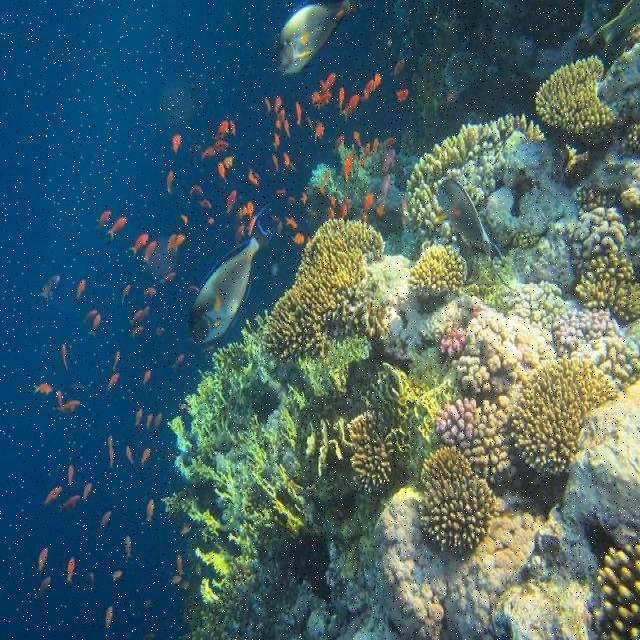fish: (188, 199, 288, 344), (437, 176, 514, 292), (276, 0, 372, 78), (587, 1, 639, 58), (341, 94, 360, 123), (107, 216, 128, 239), (360, 193, 374, 222), (129, 235, 148, 256), (342, 153, 357, 179), (43, 484, 61, 505), (321, 71, 336, 92), (107, 372, 120, 394), (144, 241, 157, 262), (225, 191, 237, 213), (89, 315, 101, 337), (60, 343, 69, 371), (121, 284, 131, 309), (138, 448, 151, 467), (129, 310, 144, 326), (390, 59, 404, 76), (172, 234, 186, 251), (364, 79, 374, 101), (59, 400, 79, 411), (38, 546, 48, 568), (108, 435, 115, 466), (66, 557, 75, 581), (145, 499, 154, 523), (317, 93, 331, 108), (97, 210, 112, 224), (284, 153, 295, 172), (248, 169, 259, 188), (166, 234, 177, 253), (125, 535, 134, 558), (381, 174, 390, 196), (171, 135, 181, 154), (314, 120, 324, 139), (275, 107, 284, 128), (214, 139, 228, 152), (295, 101, 302, 127), (218, 162, 227, 181), (218, 120, 228, 137), (76, 280, 86, 297), (81, 483, 91, 500), (396, 89, 409, 102), (202, 147, 216, 159), (337, 86, 344, 110), (166, 171, 174, 192), (35, 384, 52, 393), (113, 350, 121, 369), (376, 200, 385, 215), (141, 370, 150, 385), (385, 137, 397, 148), (198, 199, 211, 209), (274, 98, 282, 114), (341, 202, 349, 218), (67, 464, 73, 485), (292, 234, 304, 244), (107, 606, 113, 626), (374, 74, 381, 91), (247, 202, 254, 218), (192, 185, 203, 195), (353, 131, 362, 143), (230, 120, 236, 137), (284, 119, 289, 139), (287, 217, 296, 228), (224, 156, 232, 168), (272, 133, 279, 146), (272, 155, 278, 170), (312, 93, 322, 102), (372, 139, 378, 154), (265, 97, 270, 112), (56, 388, 61, 403), (239, 207, 245, 217), (363, 144, 369, 152)
reefs: (159, 41, 639, 639)
